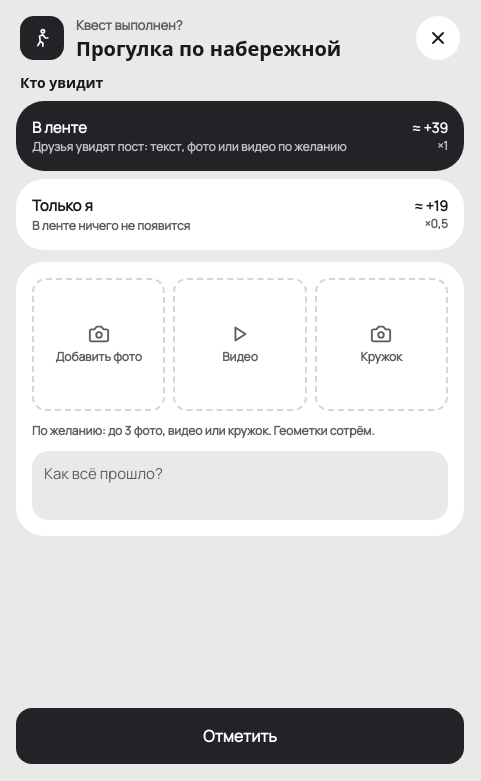
Test case: Complete a quest (US-09, US-10) › posts a text-only proof to the feed
Type "Прошёл 5 км" into the text box named "Подпись" at (240, 485), box [32,451,448,520]
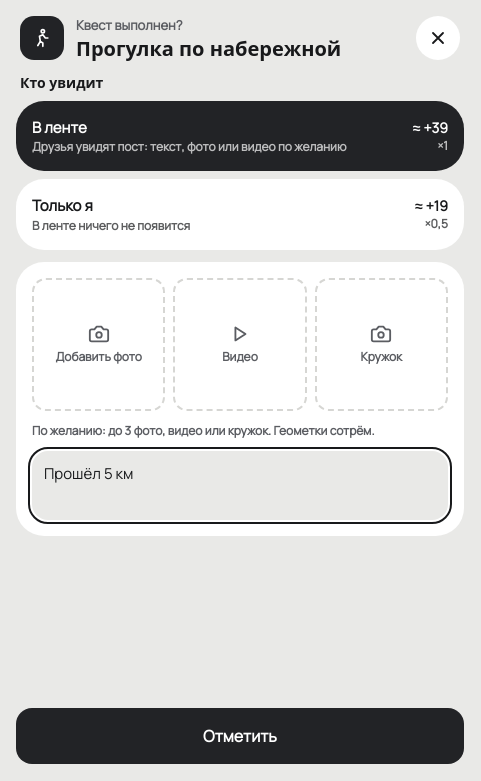
Click the button "Отметить" at (240, 736), box [16,708,464,764]
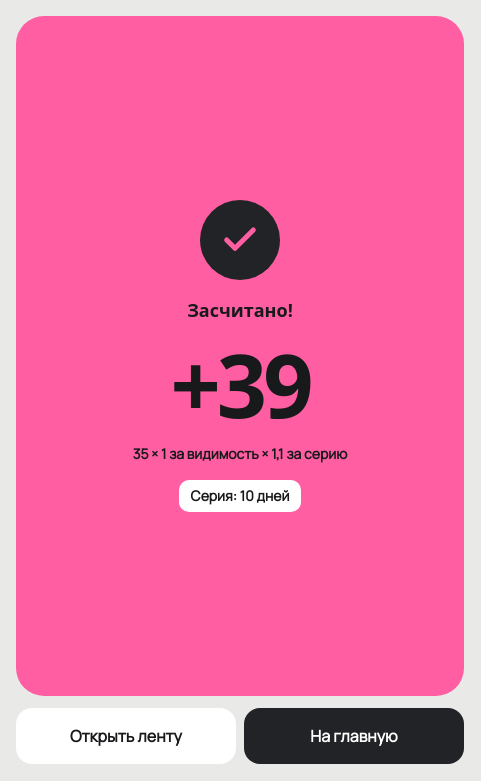
Result: the message shows "+39"
